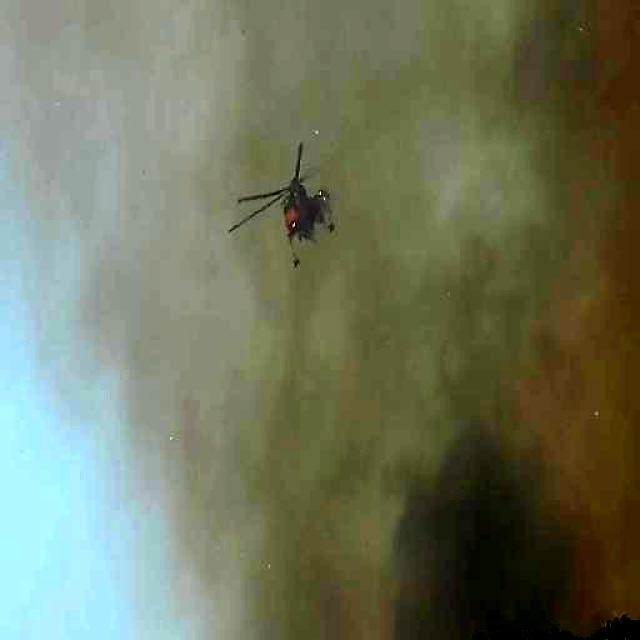drone: (219, 146, 372, 275)
